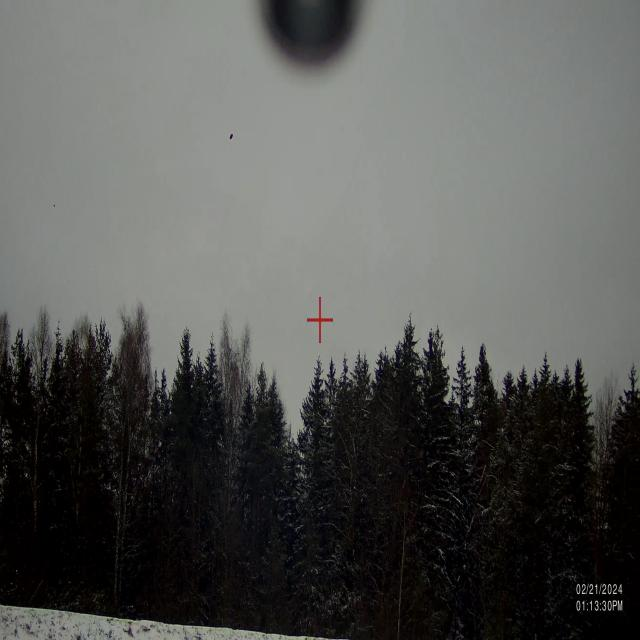entire: (226, 124, 238, 149)
